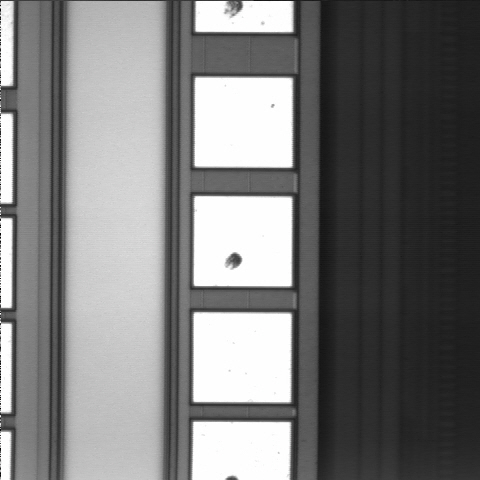pad: (194, 196, 292, 286), (193, 312, 291, 402), (195, 78, 292, 168)
